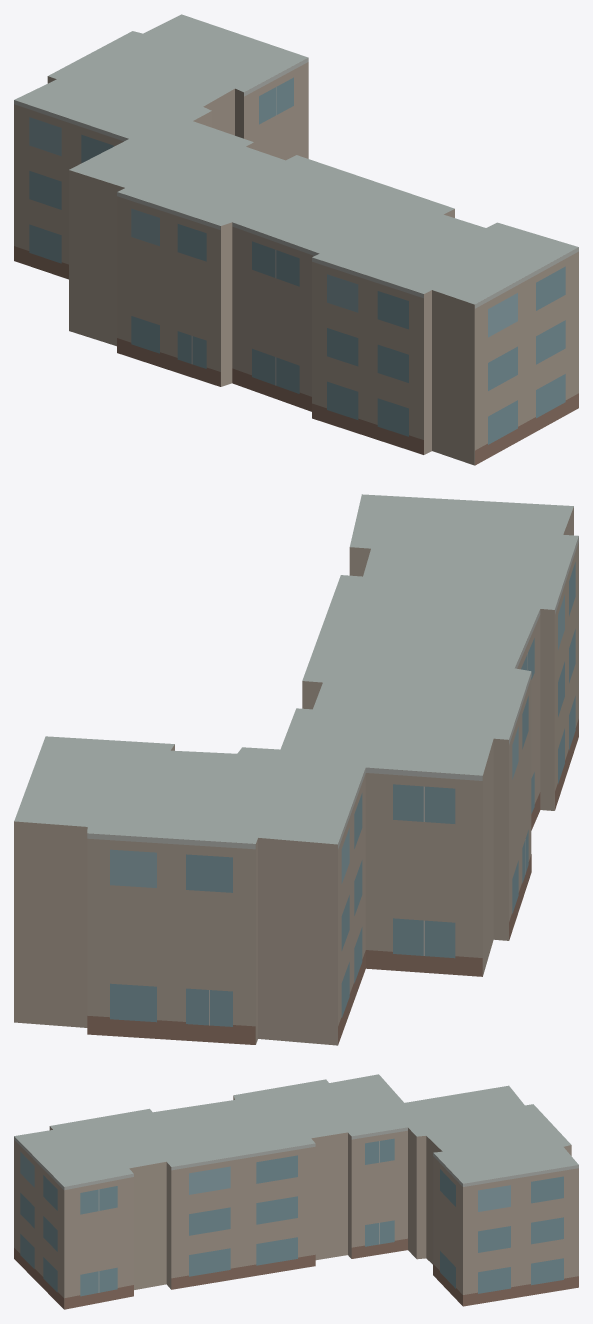
The model's file is survey-upis-32755887.glb.
3 renders of one model, top to bottom at view 1: azimuth 30°, elevation 25°; view 2: azimuth 150°, elevation 25°; view 3: azimuth 270°, elevation 25°, orthographic. The views are drawn at different scales.
Visible parts, largest first — view 1: survey-upis-32755887.tmp; view 2: survey-upis-32755887.tmp; view 3: survey-upis-32755887.tmp.
Part boxes in pixels (<box>): survey-upis-32755887.tmp: <box>14,14,578,465</box>; survey-upis-32755887.tmp: <box>14,494,578,1045</box>; survey-upis-32755887.tmp: <box>14,1074,578,1309</box>.
Bounding box in the file's own units: 18.05 × 9.15 × 38.2.
